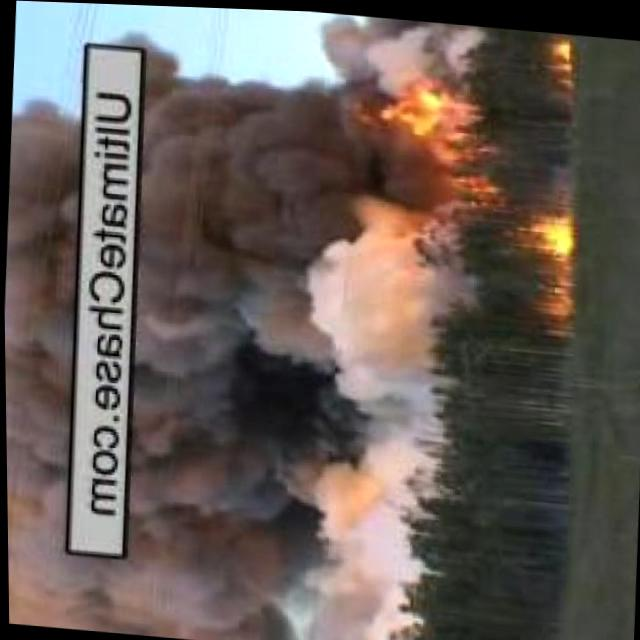fire: (348, 74, 484, 174), (508, 210, 580, 328), (544, 29, 572, 89)
